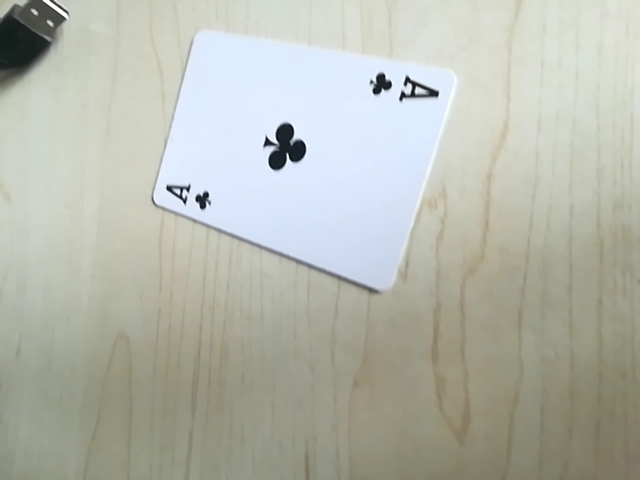mh a: (361, 65, 447, 111), (155, 173, 219, 214)
